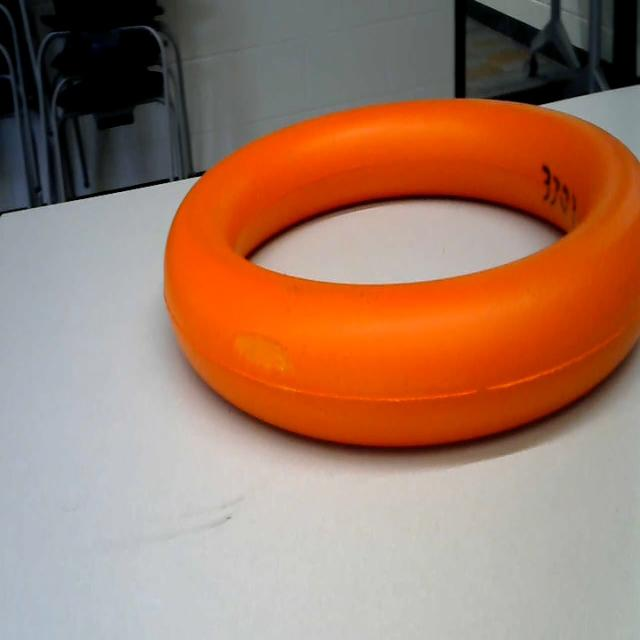note: (155, 66, 640, 499)
